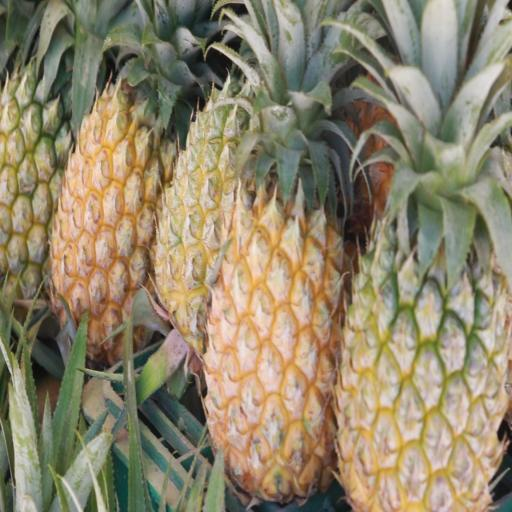------------------------------: (332, 57, 506, 512), (0, 0, 73, 318)
Pineapple - v8 v1: (202, 130, 352, 508), (47, 25, 179, 359), (150, 15, 277, 359)
